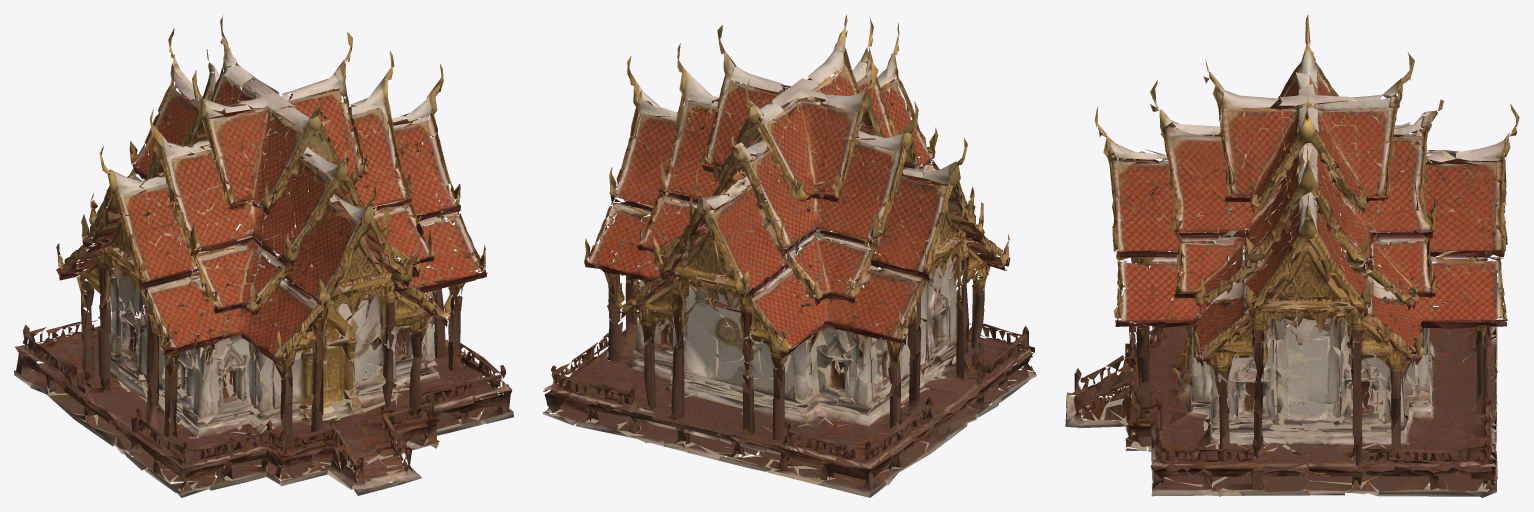
File: ayutthaya_centro.glb
3 renders of one model, left to right at view 1: azimuth 30°, elevation 25°; view 2: azimuth 150°, elevation 25°; view 3: azimuth 270°, elevation 25°, orthographic. The views are drawn at different scales.
Visible parts, largest first — view 1: Mesh_0; view 2: Mesh_0; view 3: Mesh_0.
Part boxes in pixels (x1=…): Mesh_0: x1=14, y1=15, x2=513, y2=497; Mesh_0: x1=542, y1=15, x2=1036, y2=497; Mesh_0: x1=1065, y1=15, x2=1519, y2=497.
Bounding box in the file's own units: 1.71 × 1.68 × 1.9.
1 material, 1 textured.
